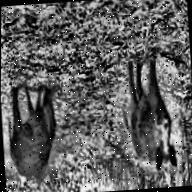boar: (118, 52, 179, 174), (4, 84, 60, 180)
